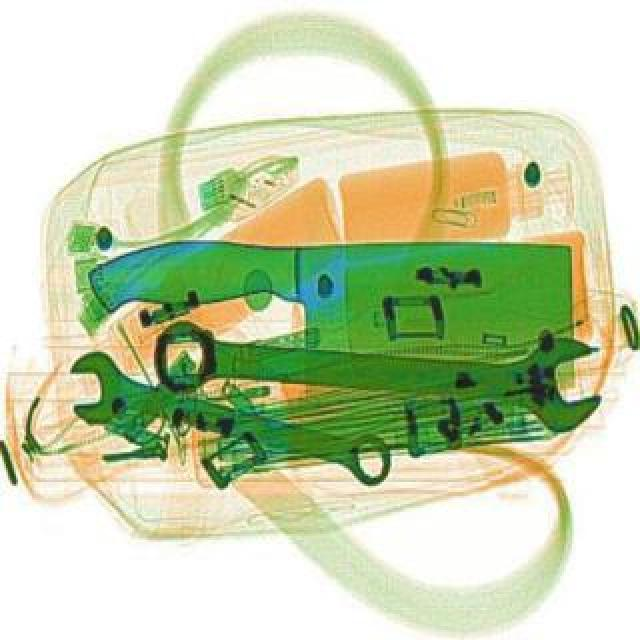knife: (88, 236, 576, 392)
scissors: (146, 298, 606, 430), (54, 340, 400, 494)
